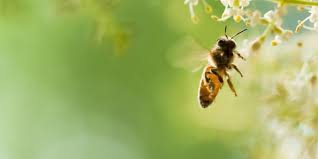insect: (191, 25, 248, 107)
